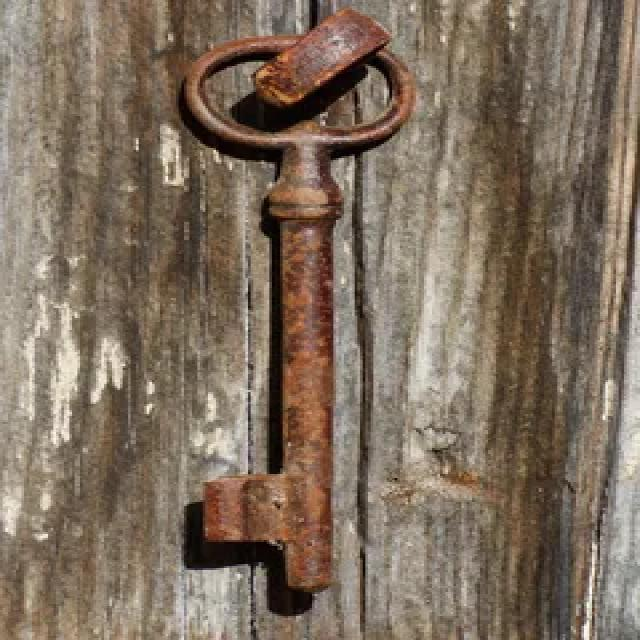key: (133, 12, 475, 606)
